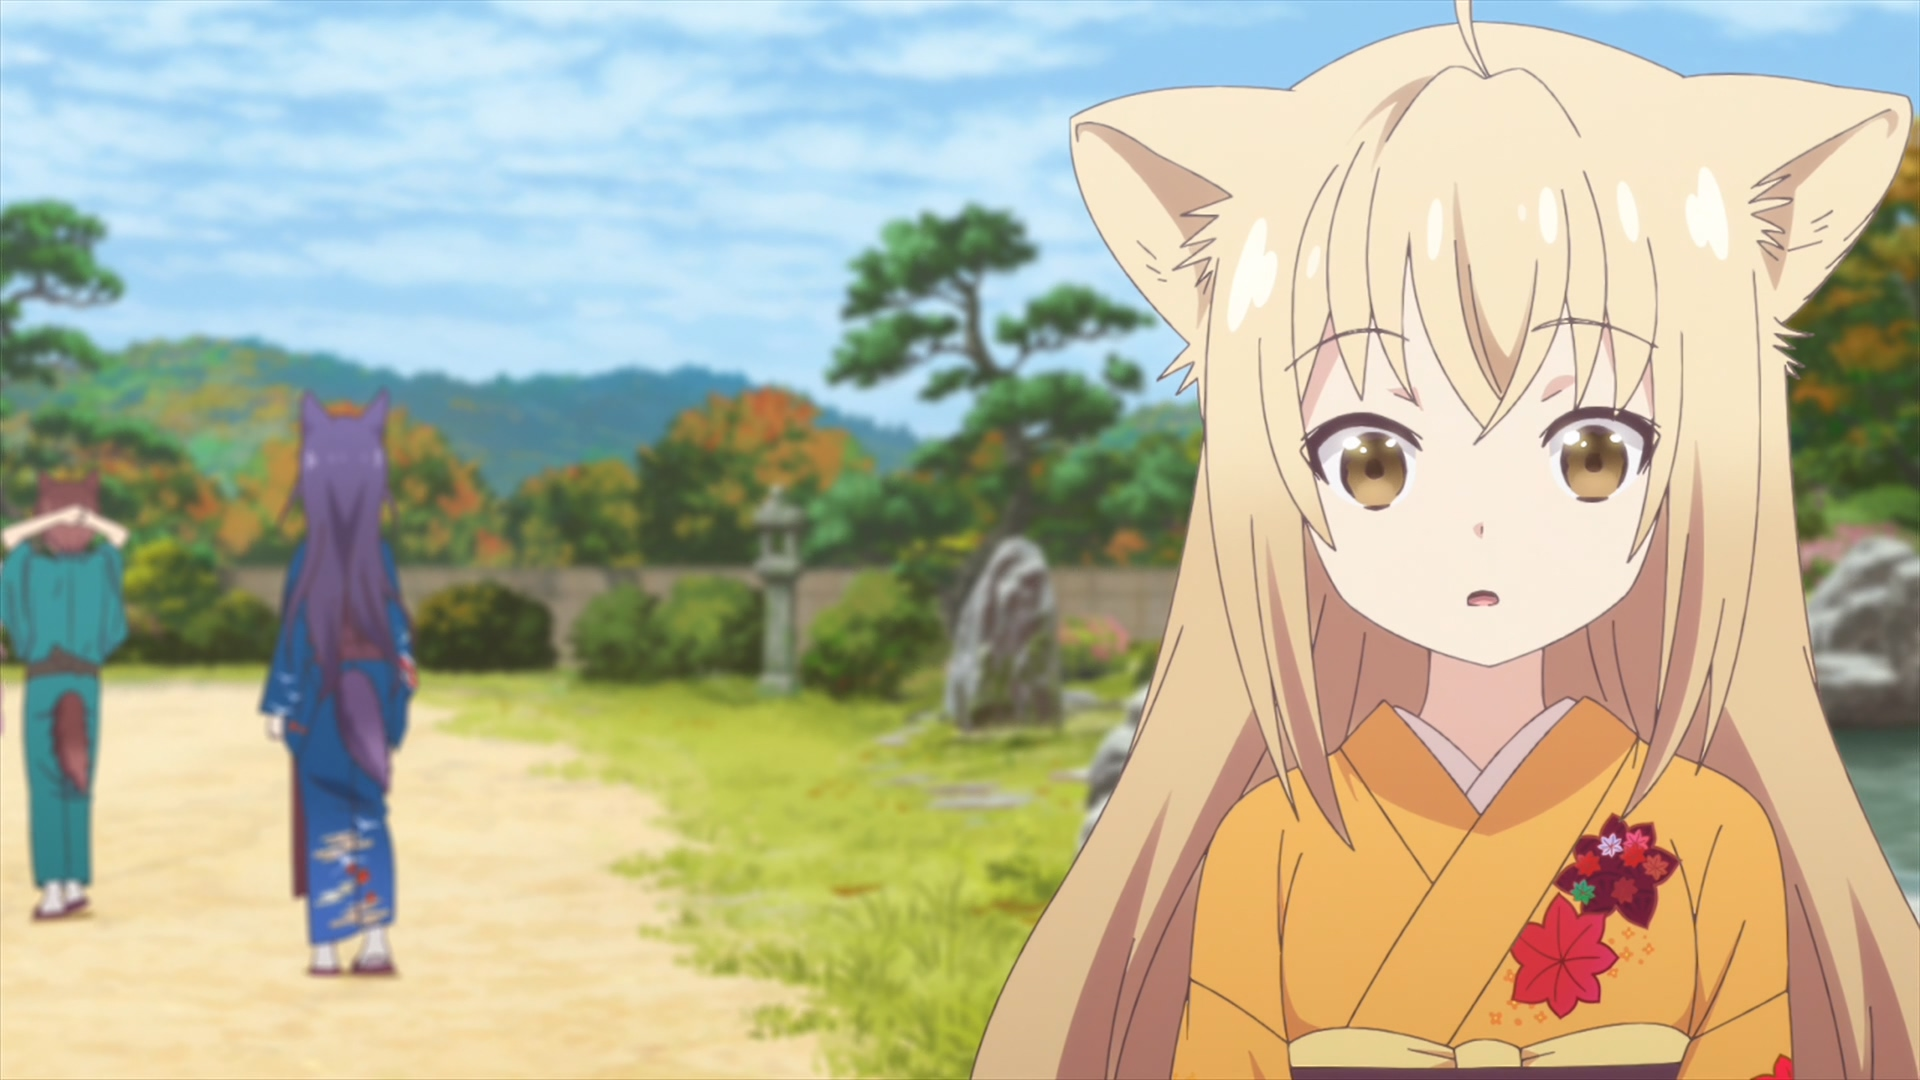枣: (1, 469, 131, 922)
柚: (975, 1, 1920, 1080)
皋: (258, 386, 419, 978)
